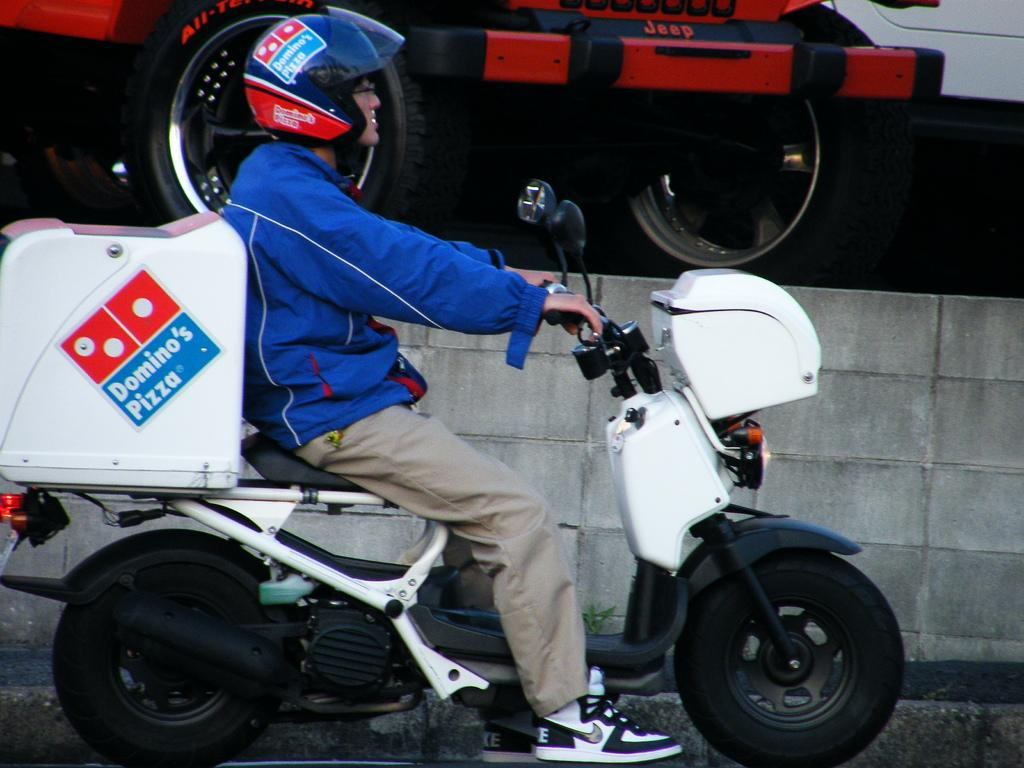helmet: (243, 5, 405, 147)
